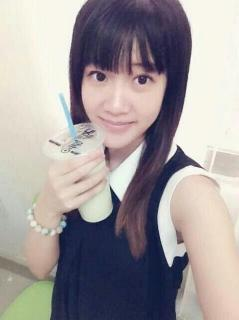short sleeve dress: (50, 134, 222, 319)
